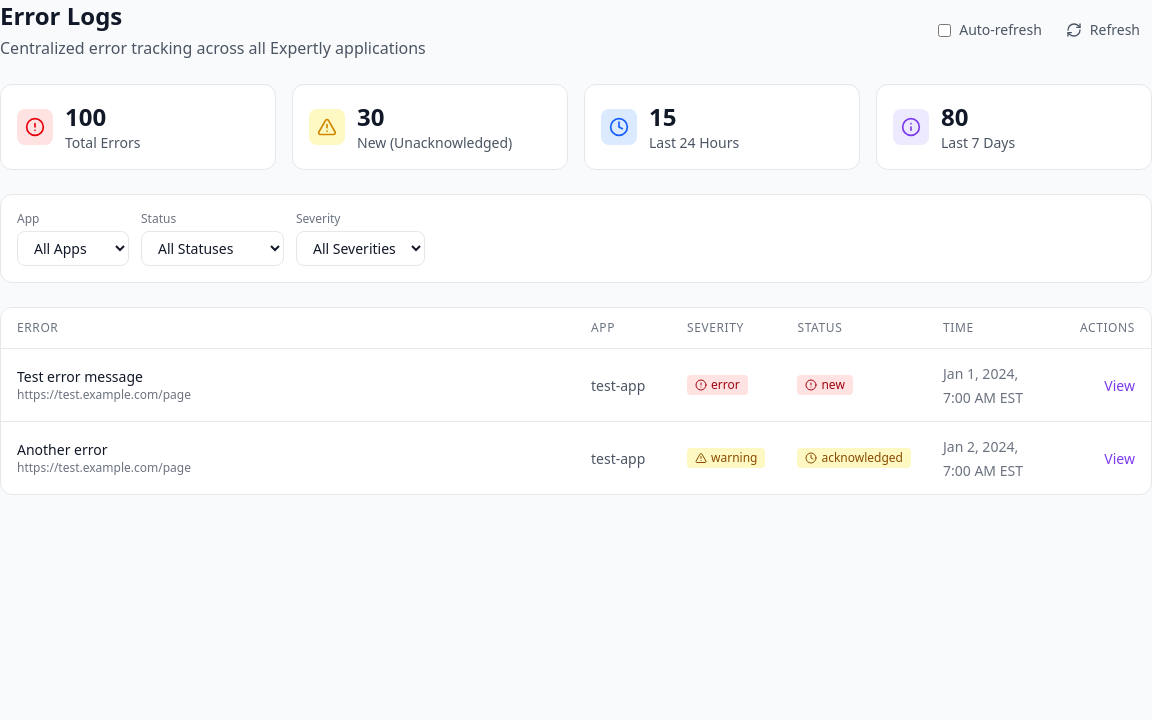
Test: ErrorLogs › opens error detail modal when row is clicked
This screenshot has width=1152, height=720.
Expected: the text "Test error message" is shown, [17,367,143,386]
Click on the error row
Click the text "Test error message" at point(576, 385), box [1,348,1151,422]
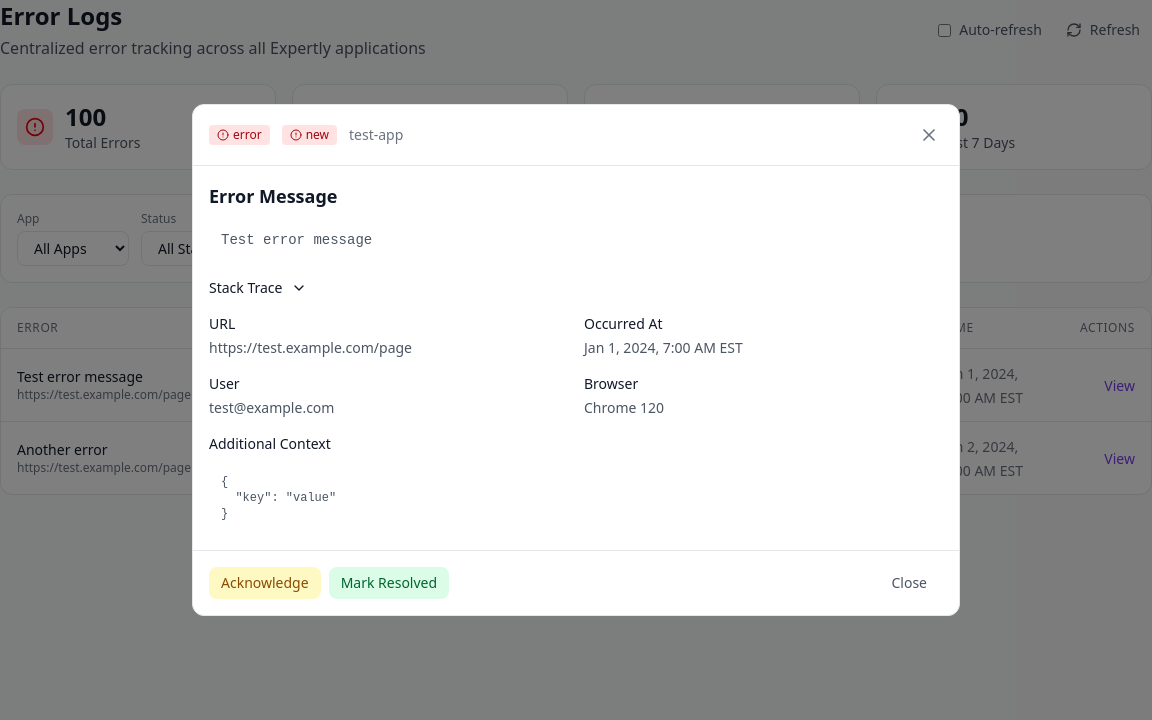
Expected: the heading "Error Message" is shown, [209,184,338,208]
Expected: the button "Stack Trace" is shown, [209,278,306,298]
